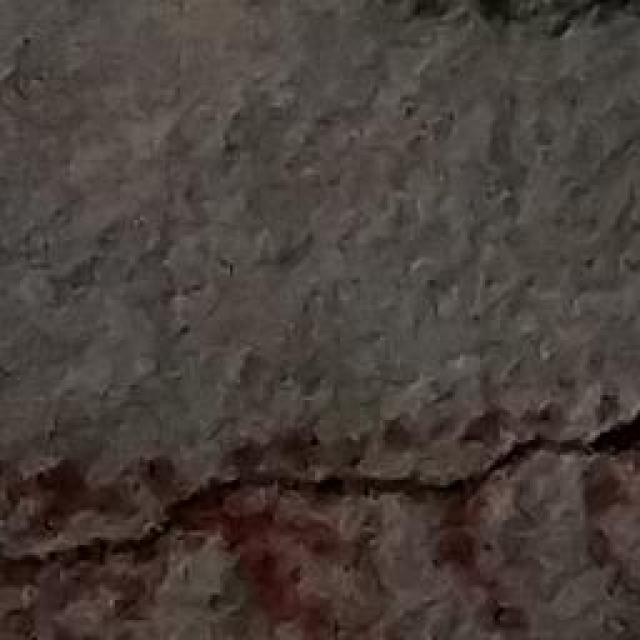Transverse: (10, 398, 640, 582)
